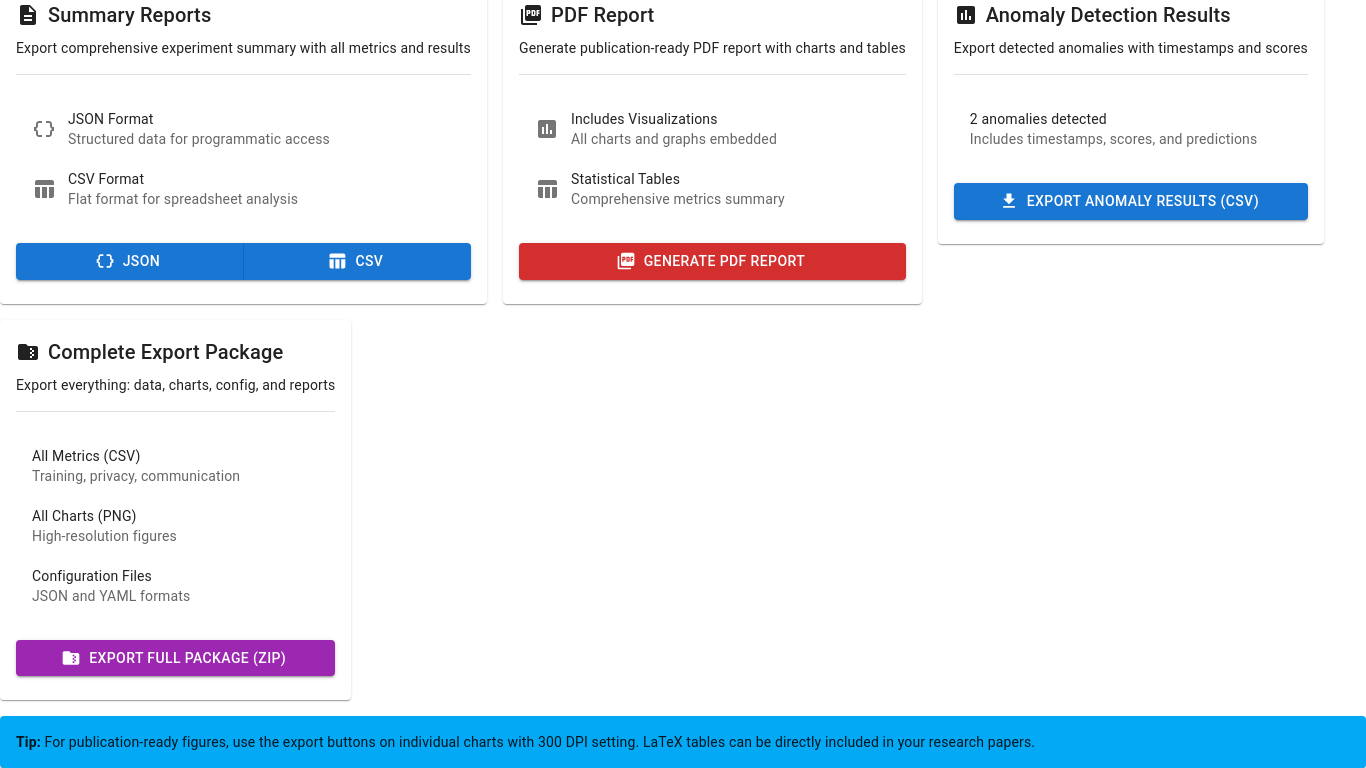
Test: ReportGeneration › Full Package Export › should export full package
(page scrolled)
Click the button "Export Full Package (ZIP)" at (176, 658), box [16,640,335,676]
(page scrolled)
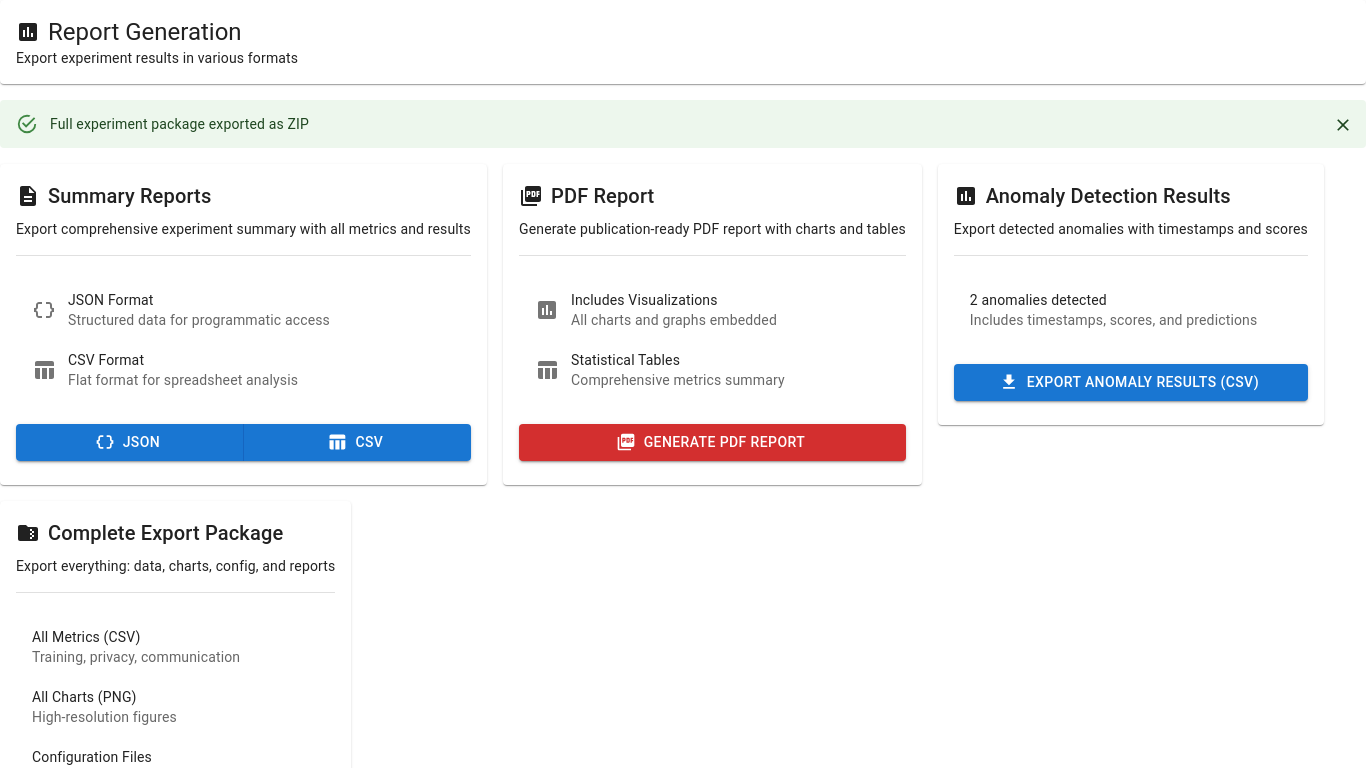
Check: the text "Full experiment package exported as ZIP" is shown, box [50,116,309,132]
